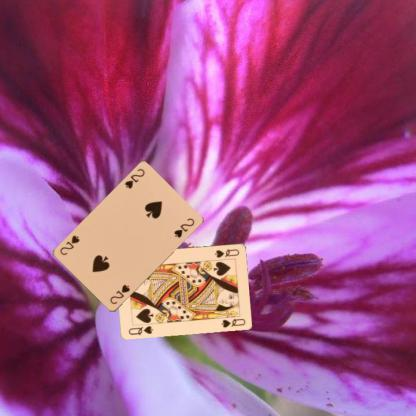2s: (122, 166, 146, 190), (108, 282, 131, 306)
Qs: (212, 246, 240, 259), (126, 323, 154, 336)
